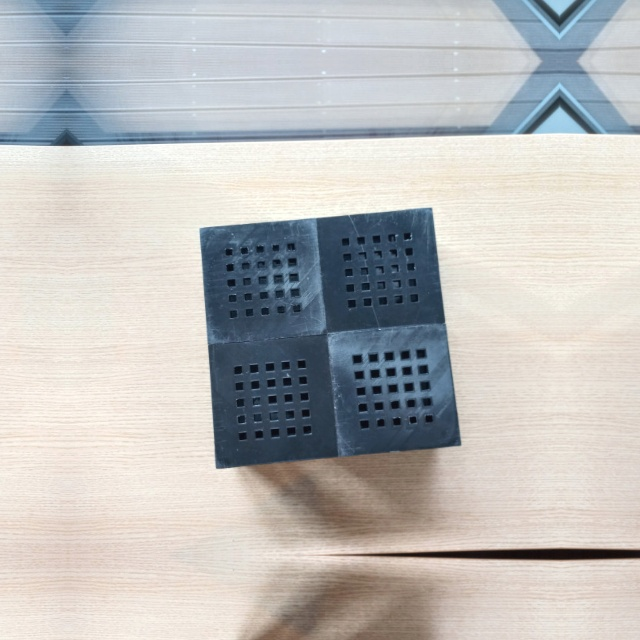pallet: (191, 202, 466, 474)
